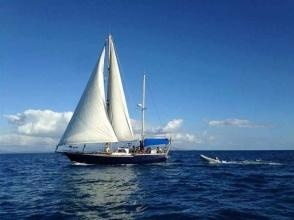fanchuan: (54, 27, 186, 167)
